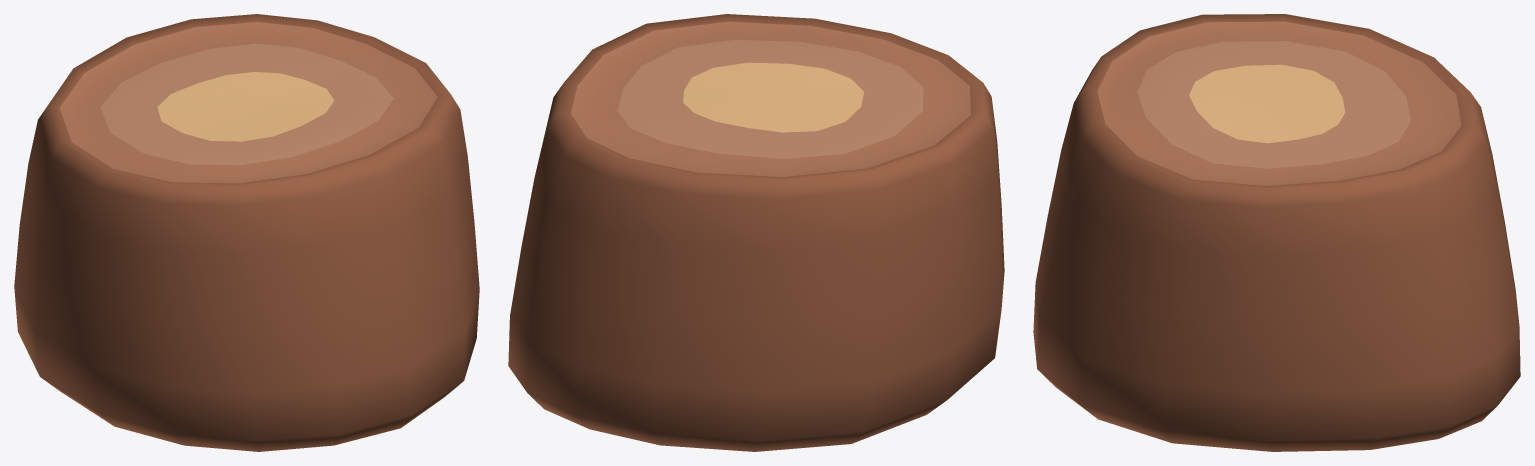
Rendered from Stump_A_01.fbx.
3 views of the same model, side by side, from view 1: azimuth 30°, elevation 25°; view 2: azimuth 150°, elevation 25°; view 3: azimuth 270°, elevation 25° (orthographic). The views are drawn at different scales.
Parts seen in each view (by area): view 1: Stump_A_01_LOD0; view 2: Stump_A_01_LOD0; view 3: Stump_A_01_LOD0.
Boxes of the visible parts, bbox=[...] form: Stump_A_01_LOD0: bbox=[14, 14, 479, 451]; Stump_A_01_LOD0: bbox=[508, 14, 1004, 451]; Stump_A_01_LOD0: bbox=[1033, 14, 1520, 451].
Size of what is drawn, in the model's own units: 184 by 116 by 194.
